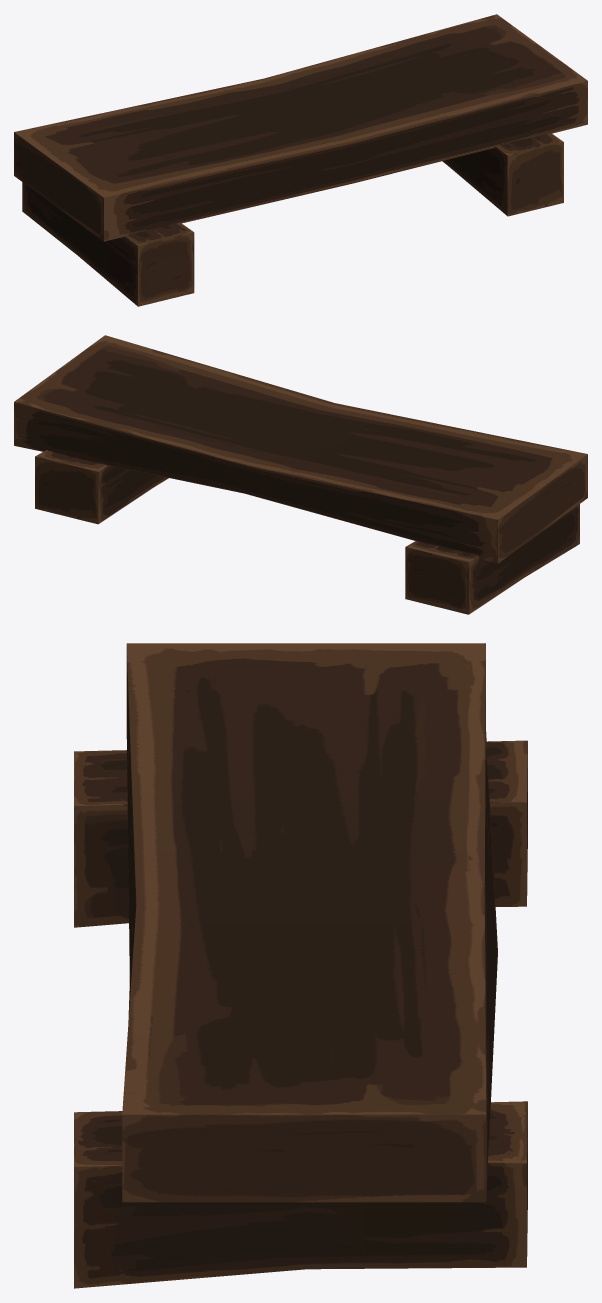
File: SM_PROP_wallshelf_dungeon_04.fbx
The picture shows the model from 3 angles, top to bottom: view 1: azimuth 30°, elevation 25°; view 2: azimuth 150°, elevation 25°; view 3: azimuth 270°, elevation 25°; orthographic projection. The views are drawn at different scales.
Parts seen in each view (by area): view 1: SM_PROP_wallshelf_dungeon_04; view 2: SM_PROP_wallshelf_dungeon_04; view 3: SM_PROP_wallshelf_dungeon_04.
Part boxes in pixels (x1,y1,x2,y2): SM_PROP_wallshelf_dungeon_04: (14, 14, 587, 306); SM_PROP_wallshelf_dungeon_04: (14, 335, 587, 614); SM_PROP_wallshelf_dungeon_04: (74, 643, 527, 1288).
Bounding box in the file's own units: 101 × 20.78 × 40.89.
